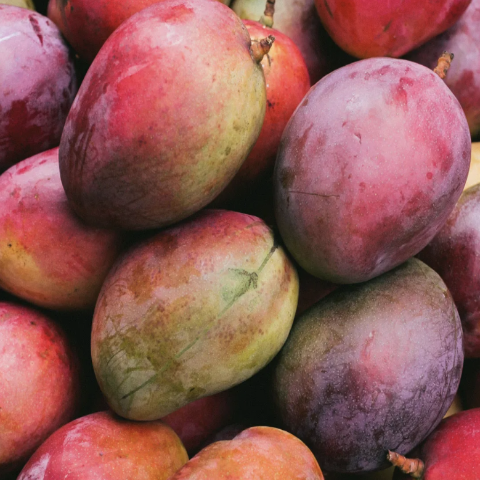mango: (33, 0, 289, 241), (272, 27, 477, 286), (64, 207, 324, 411), (263, 253, 476, 478)
